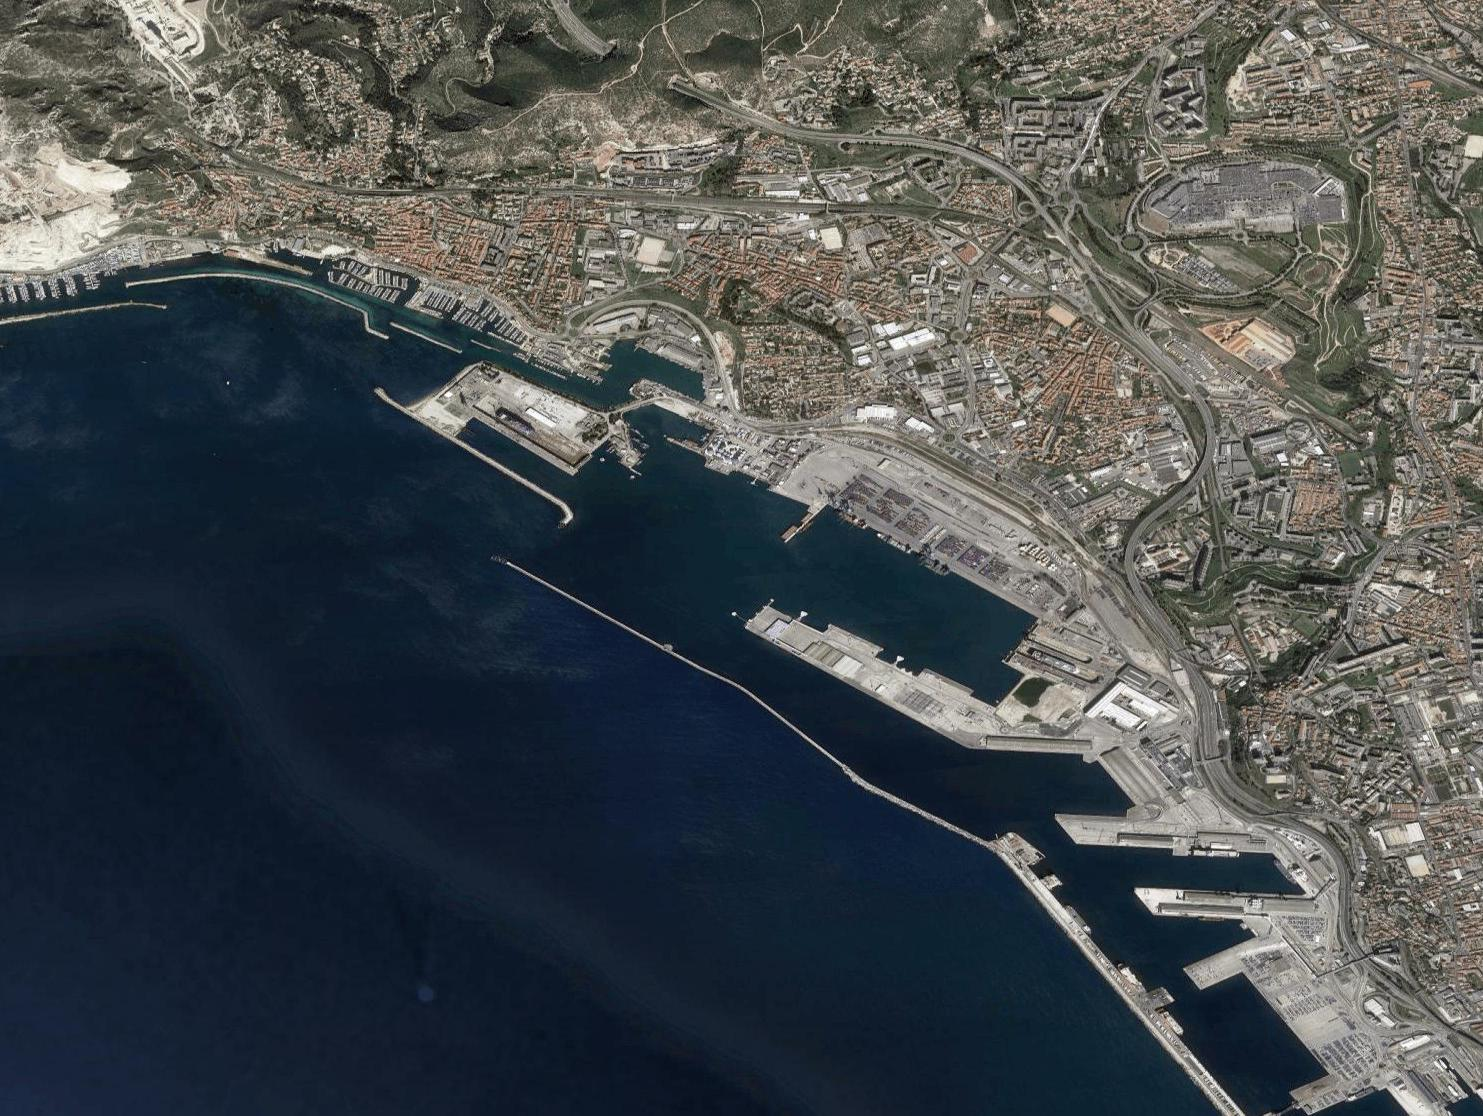harbor: (242, 227, 1388, 1116)
motorway: (977, 154, 1082, 253), (1072, 243, 1150, 351), (1149, 343, 1222, 450), (666, 76, 800, 131), (1233, 799, 1343, 863), (1190, 690, 1249, 803), (1141, 450, 1220, 528), (1360, 961, 1441, 1035), (800, 127, 973, 161), (1151, 607, 1217, 692), (1327, 855, 1368, 962), (543, 1, 614, 57), (1120, 520, 1157, 615)
